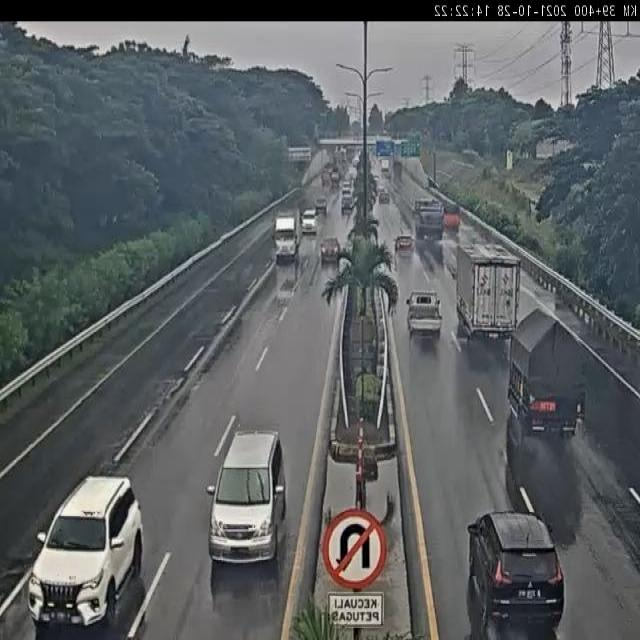Car: (25, 472, 146, 630), (466, 506, 566, 634), (320, 237, 340, 264), (393, 233, 416, 256), (300, 209, 319, 234), (341, 196, 354, 214), (315, 196, 327, 214), (379, 188, 390, 203), (342, 179, 351, 194)
Truck: (506, 305, 589, 439), (453, 239, 523, 344), (406, 290, 443, 339), (271, 208, 300, 260), (412, 198, 444, 240), (441, 200, 461, 232), (392, 160, 402, 177), (380, 156, 390, 172)
Van: (207, 429, 288, 564)
